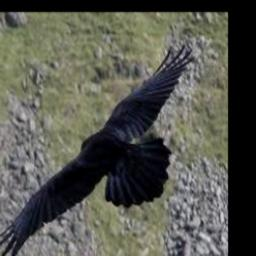Crow: (0, 45, 194, 256)
